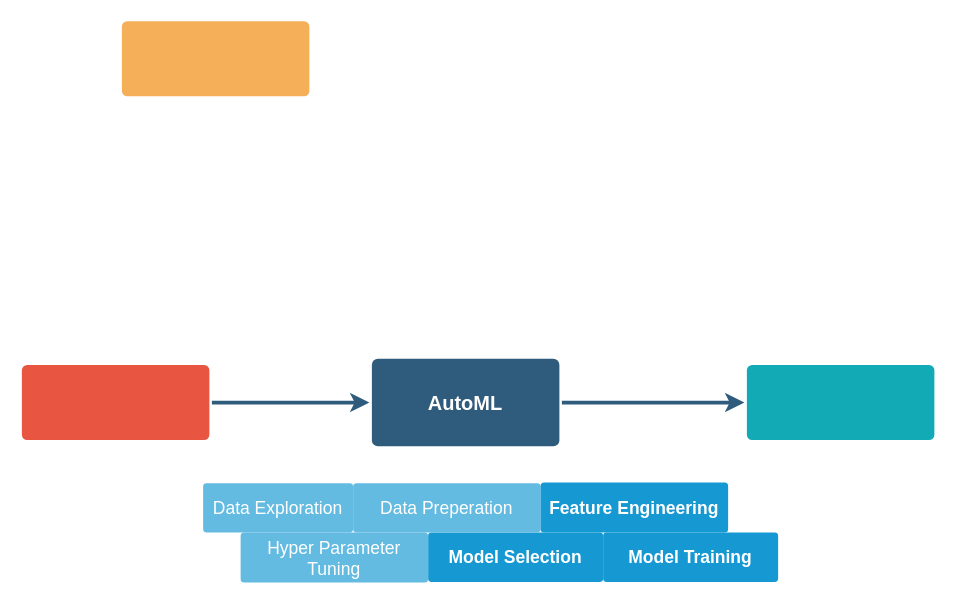
Some shapes in this 955 by 604 pixel diagram are drawn without their labels. The shapes that lost their labels are listed below. From the top down, each one's centre as x and y in pixels, then its label:
At point 215,58: "Segmentation".
At point 115,401: "Data Acquisition".
At point 840,401: "Prediction".
